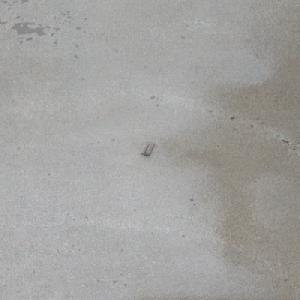MetalPart: (137, 142, 155, 157)
